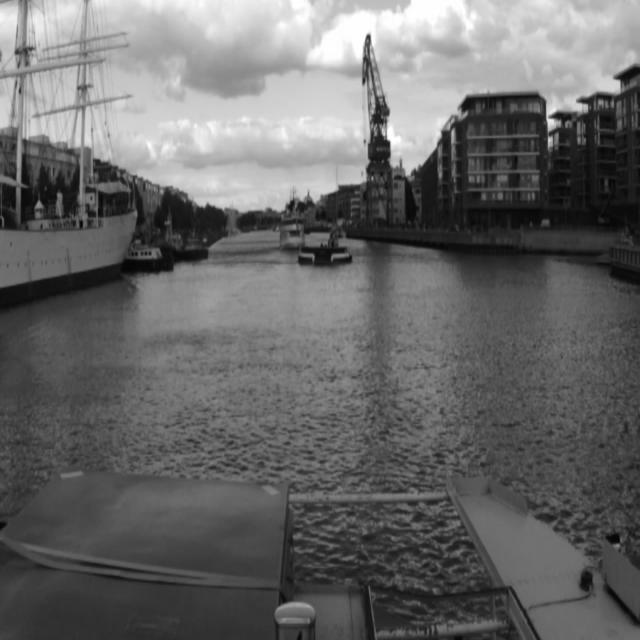ship: (0, 0, 134, 312), (298, 226, 352, 266), (277, 184, 307, 254), (126, 241, 175, 275), (329, 166, 345, 238), (182, 229, 213, 259), (240, 226, 252, 234)
